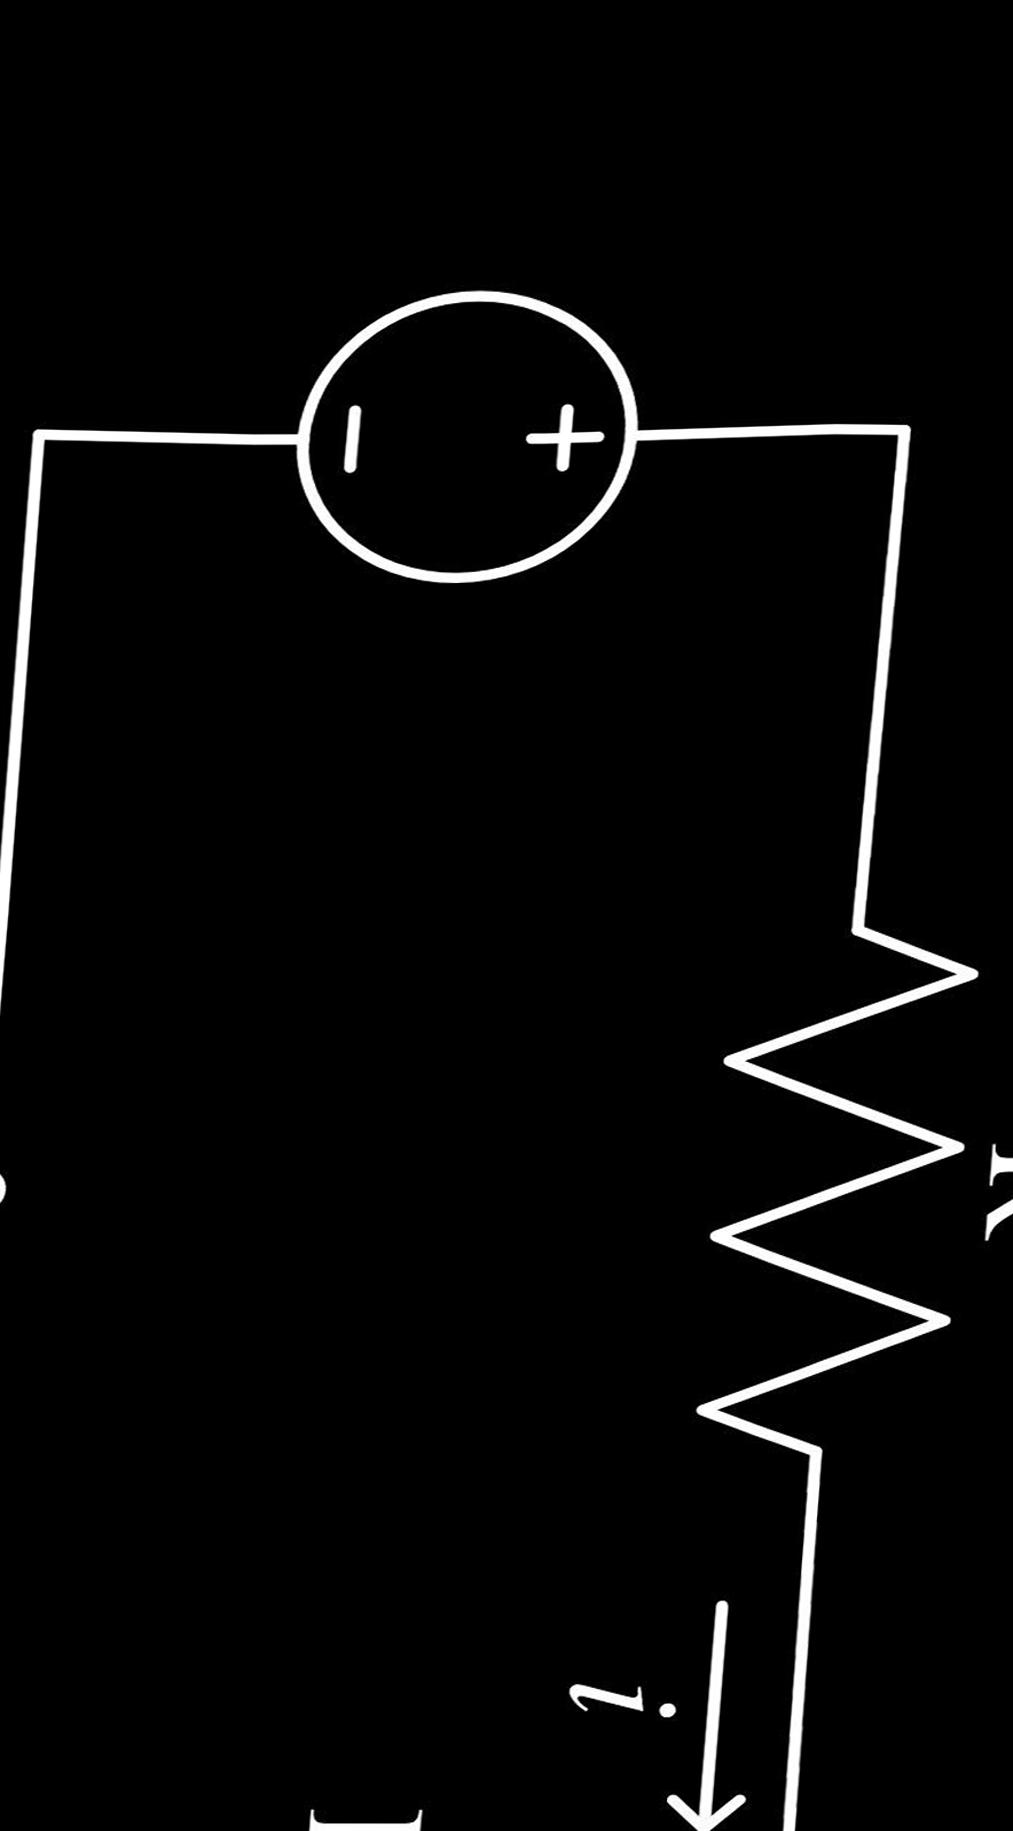Battery: (223, 215, 699, 723)
